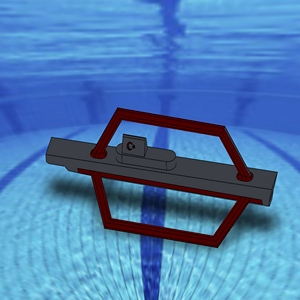submarine: (22, 85, 300, 267)
